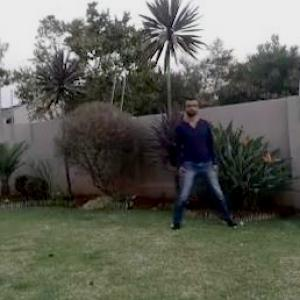follow: (175, 87, 215, 226)
